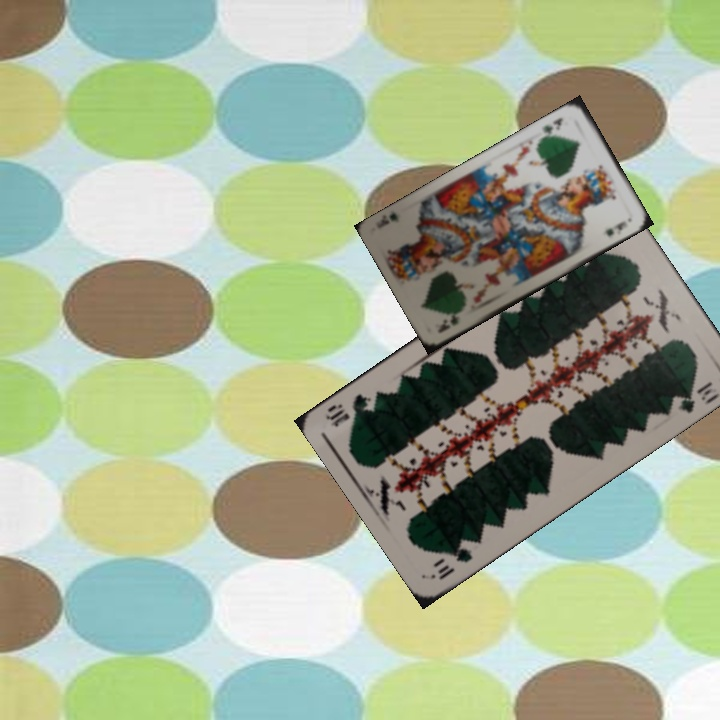G10: (429, 541, 475, 583)
GK: (538, 113, 566, 140), (434, 312, 462, 336)
